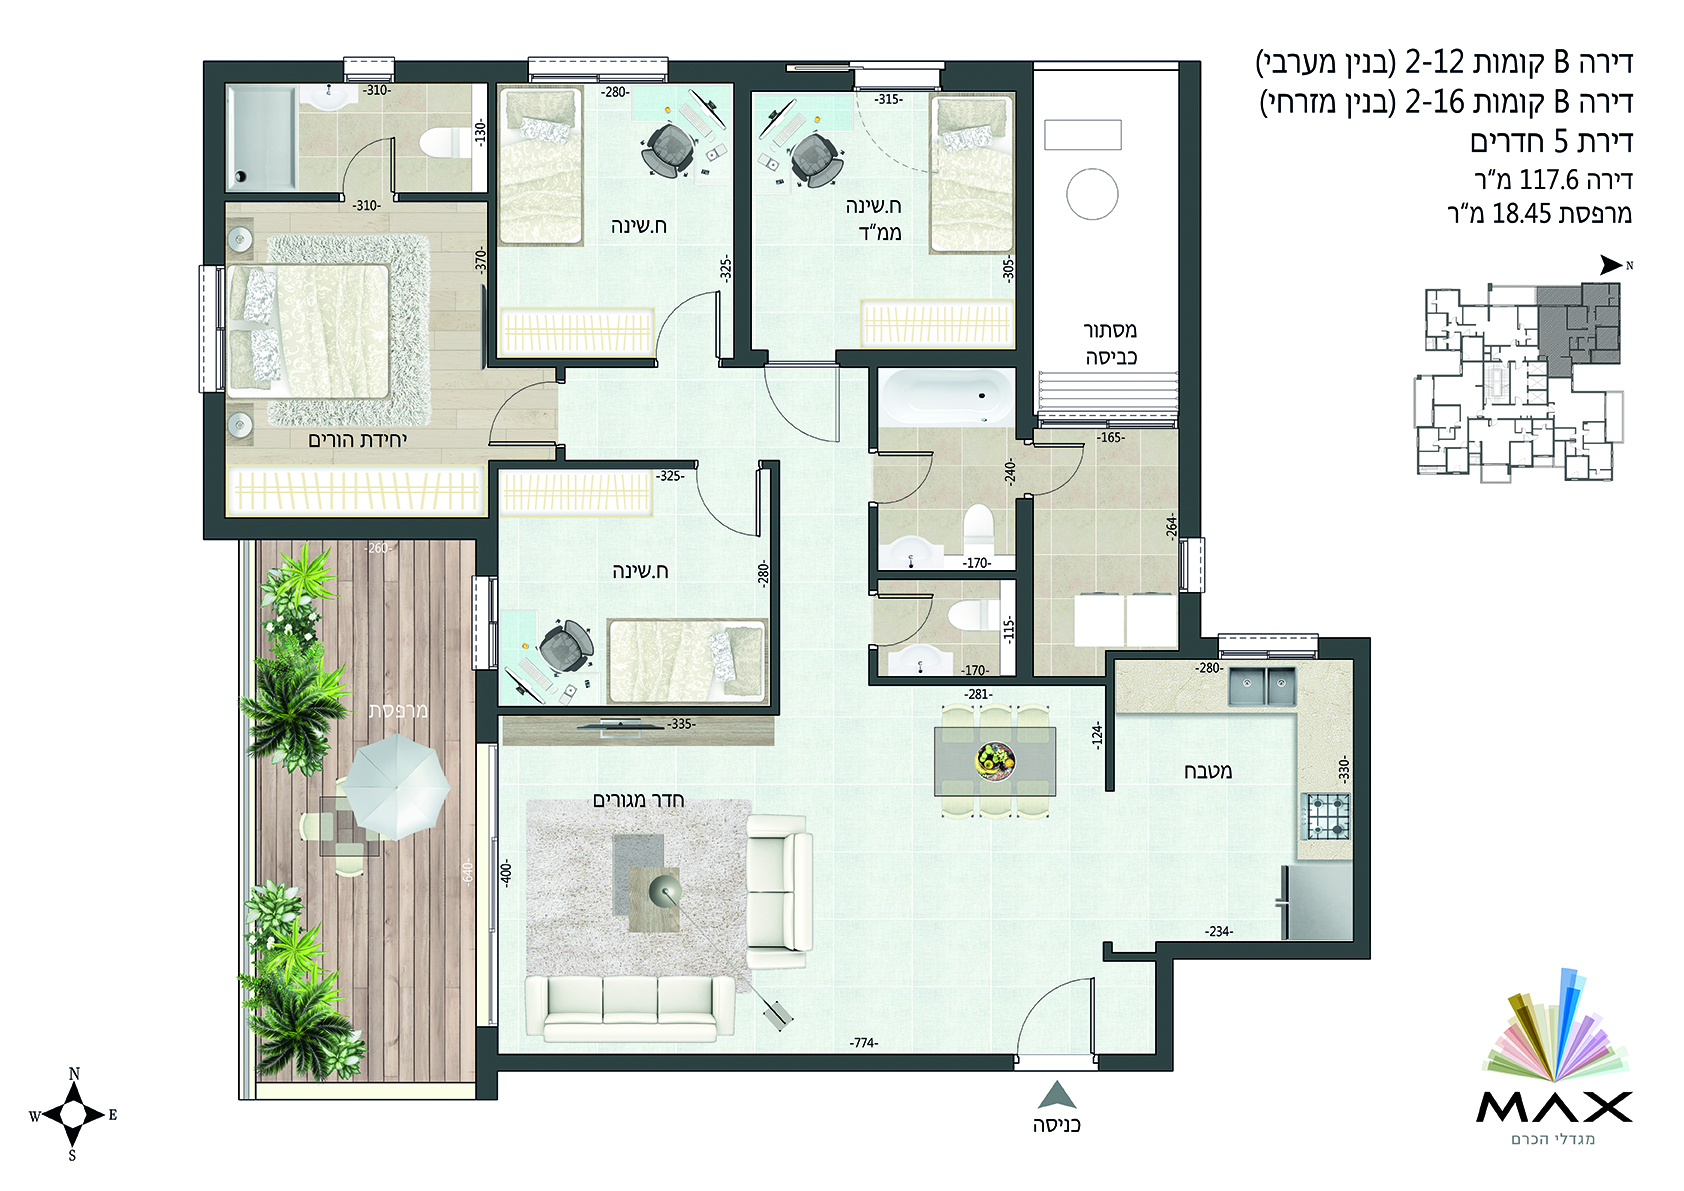door: (996, 974, 1136, 1043), (750, 382, 850, 451), (688, 476, 772, 549), (466, 383, 548, 452), (657, 284, 728, 347), (332, 133, 412, 180), (892, 580, 946, 647), (890, 442, 946, 505), (1044, 438, 1094, 501)
wall: (1176, 61, 1201, 540), (506, 1053, 1005, 1076), (223, 522, 490, 537), (201, 402, 225, 537), (1350, 641, 1354, 944)
window: (475, 745, 501, 1029), (526, 53, 667, 86), (475, 577, 505, 666)
